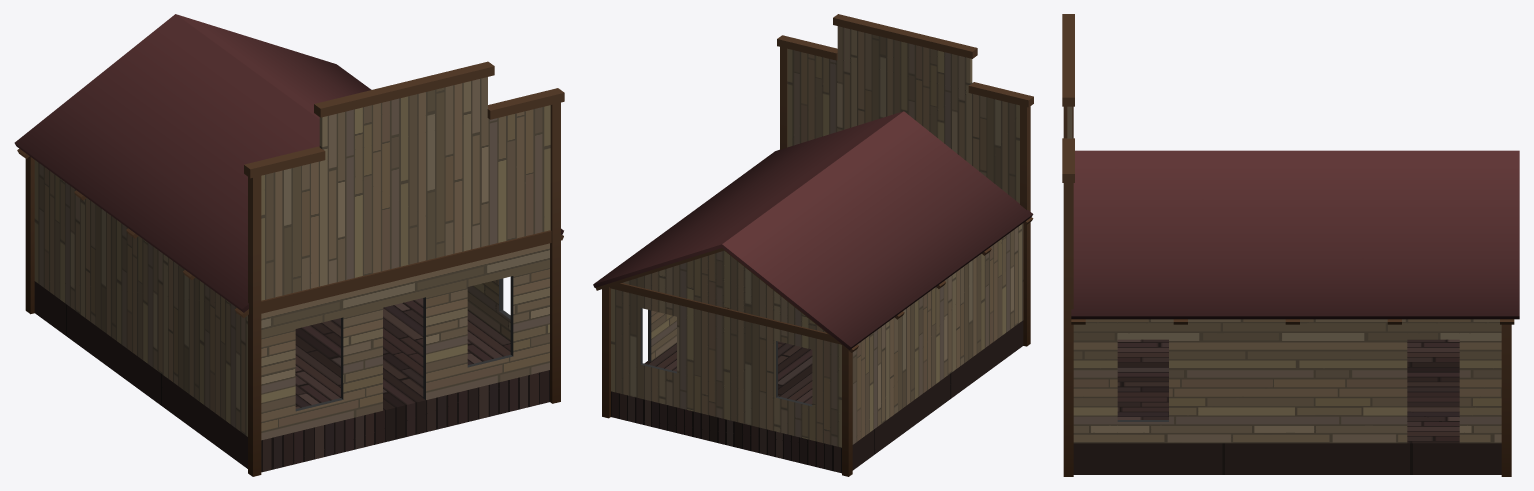
File: House 7 M Yellow.glb
3 views of the same model, side by side, from view 1: azimuth 30°, elevation 25°; view 2: azimuth 150°, elevation 25°; view 3: azimuth 270°, elevation 25° (orthographic). The views are drawn at different scales.
Visible parts, largest first — view 1: House 7 M Yellow; view 2: House 7 M Yellow; view 3: House 7 M Yellow.
Part boxes in pixels (x1=…): House 7 M Yellow: x1=14, y1=14, x2=564, y2=476; House 7 M Yellow: x1=593, y1=14, x2=1033, y2=476; House 7 M Yellow: x1=1062, y1=14, x2=1519, y2=476.
Size of what is drawn, in the model's own units: 7.53 by 7.87 by 9.4.
Materials: 3 (3 with a texture image).
